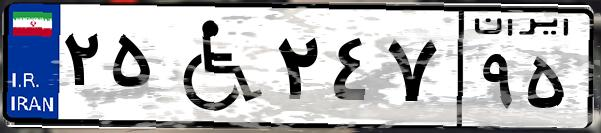2: (270, 28, 330, 110), (57, 26, 110, 100)
4: (330, 28, 385, 110)
5: (525, 38, 570, 115), (110, 28, 158, 98)
7: (385, 28, 445, 110)
9: (475, 38, 525, 113)
ژ (معلولین و جانبازان): (158, 12, 270, 120)
